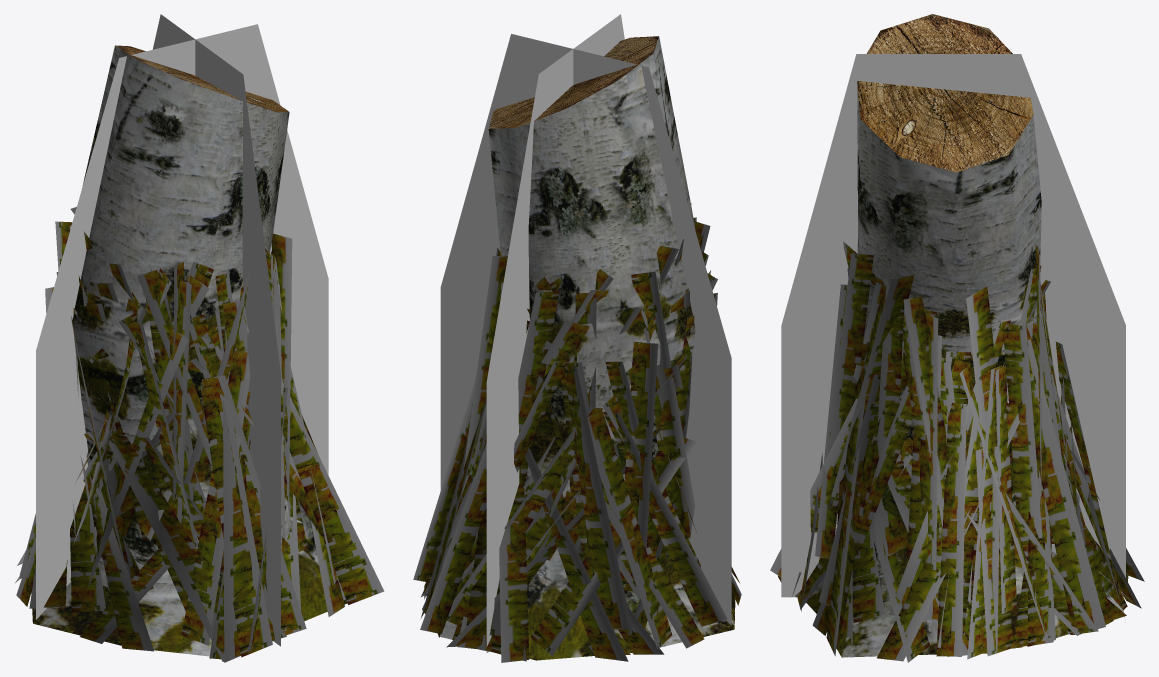
The model's file is Stump1.fbx.
3 renders of one model, left to right at view 1: azimuth 30°, elevation 25°; view 2: azimuth 150°, elevation 25°; view 3: azimuth 270°, elevation 25°, orthographic.
Visible parts, largest first — view 1: LOD0, Billboard; view 2: LOD0, Billboard; view 3: LOD0, Billboard.
Boxes of the visible parts, x1,y1,x2,y2 form: LOD0: [15, 45, 384, 662]; Billboard: [36, 14, 328, 646]; LOD0: [413, 36, 741, 662]; Billboard: [440, 14, 731, 652]; LOD0: [770, 14, 1144, 662]; Billboard: [781, 54, 1125, 597].
Size of what is drawn, in the model's own units: 68.41 by 117 by 72.25.
